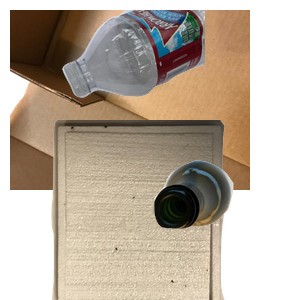cardboard: (10, 10, 250, 190)
glass: (151, 158, 300, 300)
plastic: (60, 10, 300, 100)
trash: (49, 120, 269, 300)
